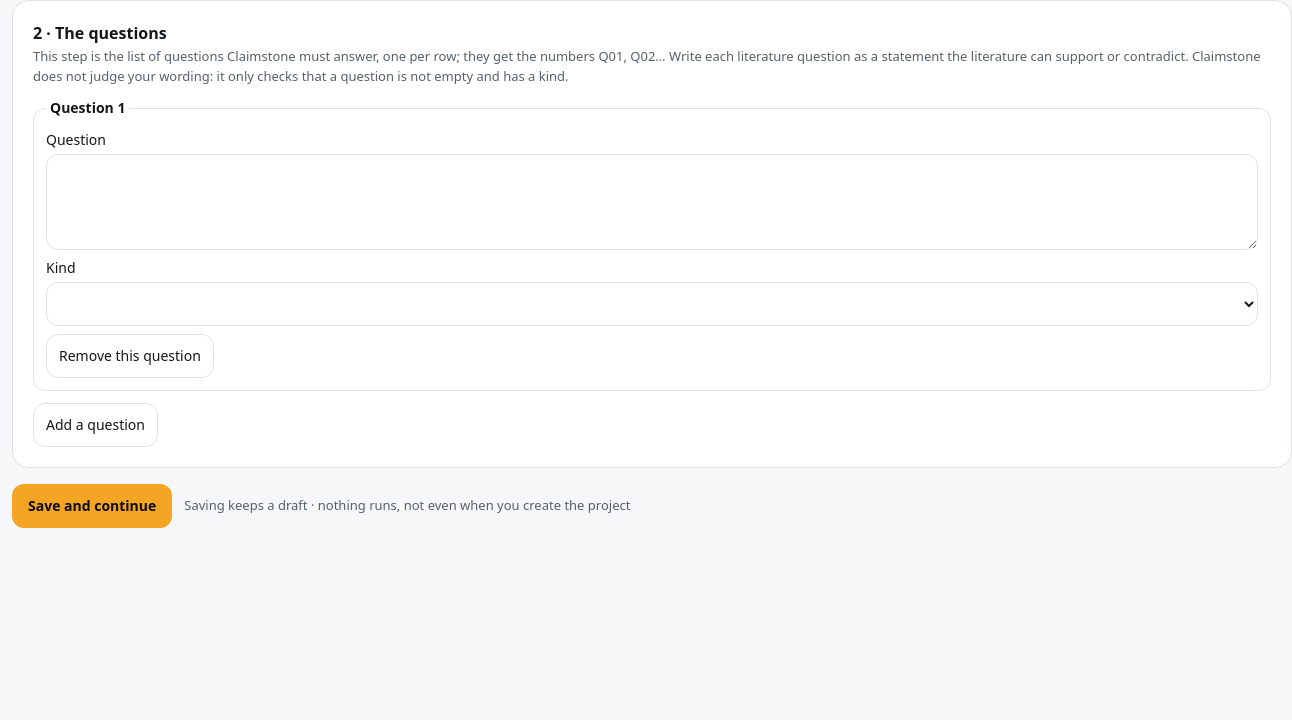
Test: StepQuestions › the server's refusal of an empty kind appears under the question
Type "x?" into the text box labelled "Question". click: (652, 202)
box: [46,154,1258,250]
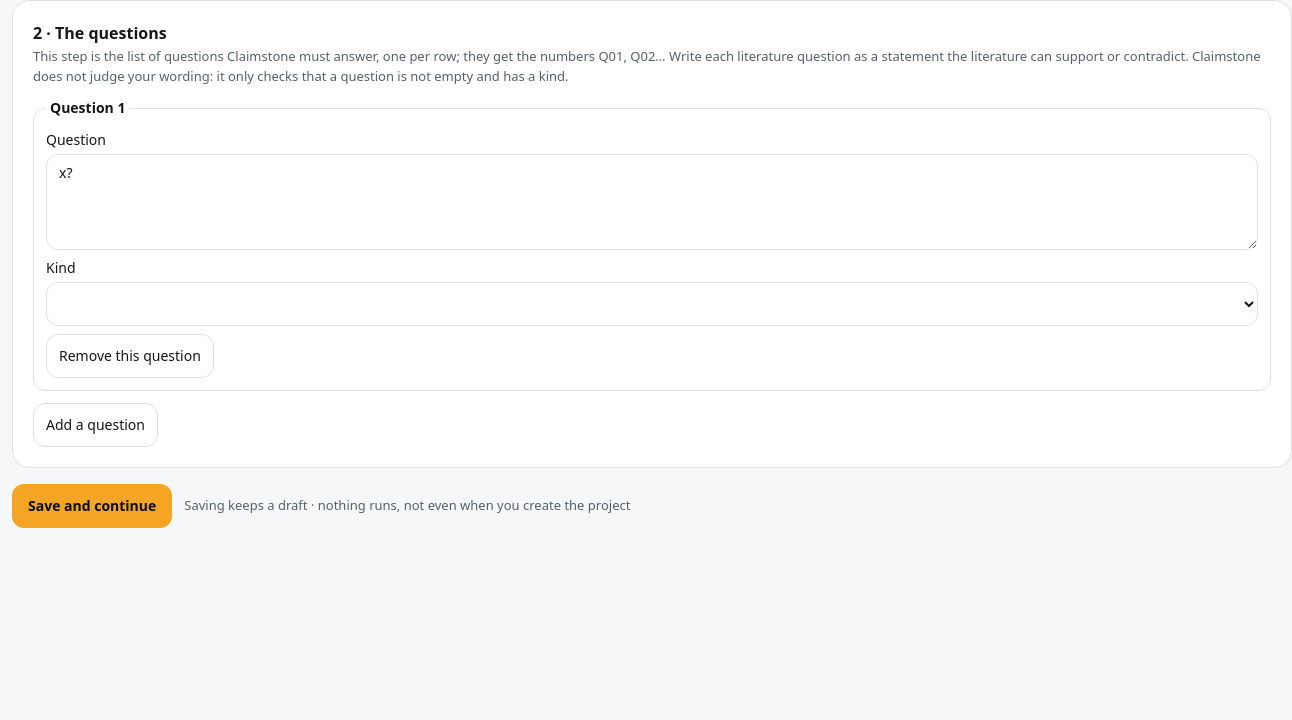
Click the button "Save and continue". click: (92, 506)
box: [12,484,172,528]
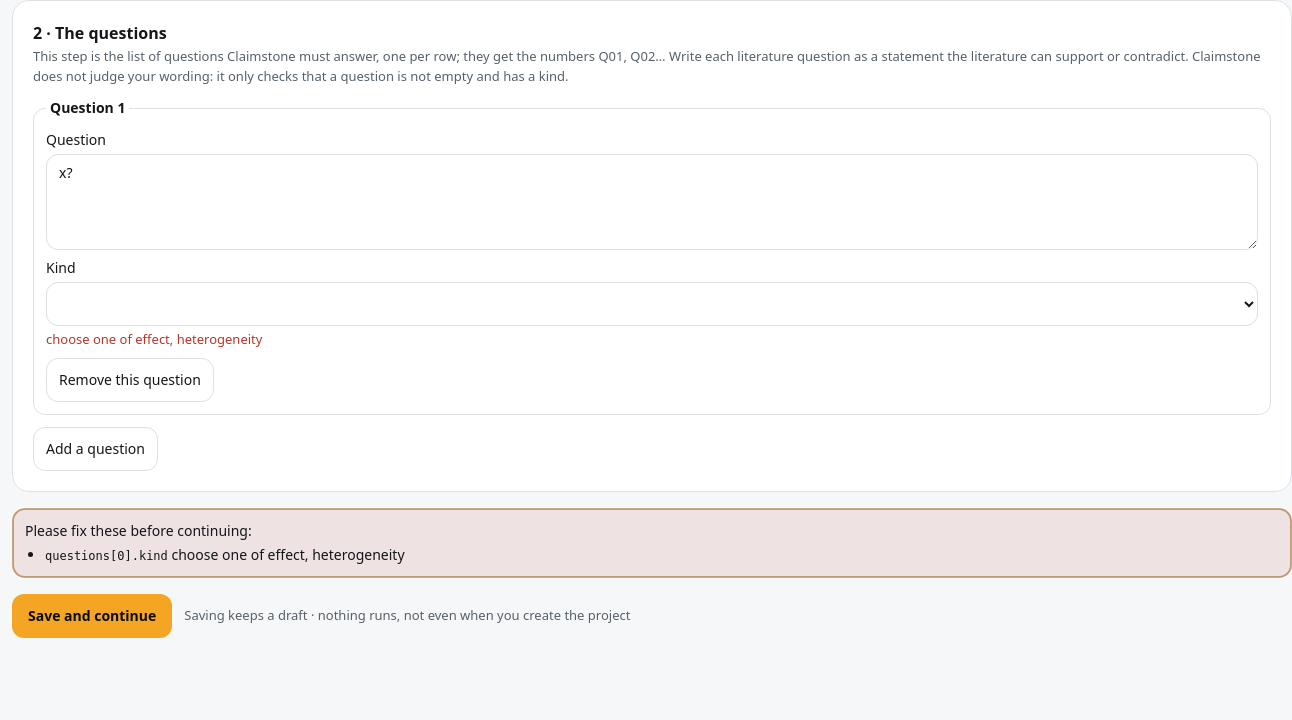
Now the text "choose one of effect, heterogeneity" below "Question 1" is shown, box [46,330,262,348]
